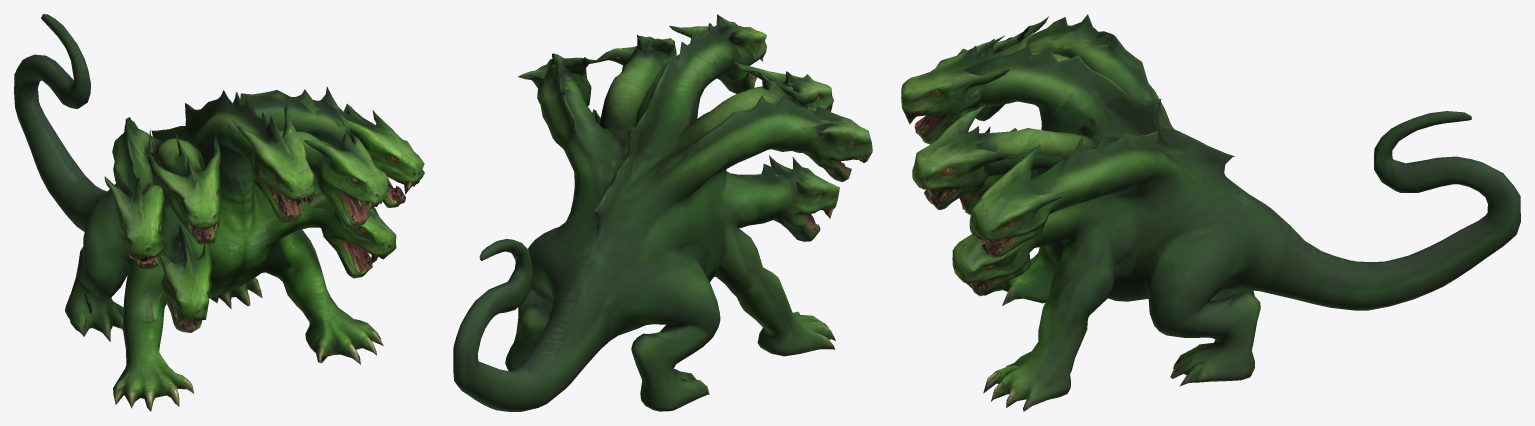
The model's file is monster_32.glb.
3 renders of one model, left to right at view 1: azimuth 30°, elevation 25°; view 2: azimuth 150°, elevation 25°; view 3: azimuth 270°, elevation 25°, orthographic. The views are drawn at different scales.
Parts seen in each view (by area): view 1: Great_Hydra_0709175242_texture; view 2: Great_Hydra_0709175242_texture; view 3: Great_Hydra_0709175242_texture.
Boxes of the visible parts, left/top/right/bottom form: Great_Hydra_0709175242_texture: left=14, top=14, right=424, bottom=411; Great_Hydra_0709175242_texture: left=453, top=14, right=872, bottom=411; Great_Hydra_0709175242_texture: left=901, top=14, right=1520, bottom=411.
Size of the model in its own units: 1.23 by 1.06 by 2.
1 material, 1 textured.
